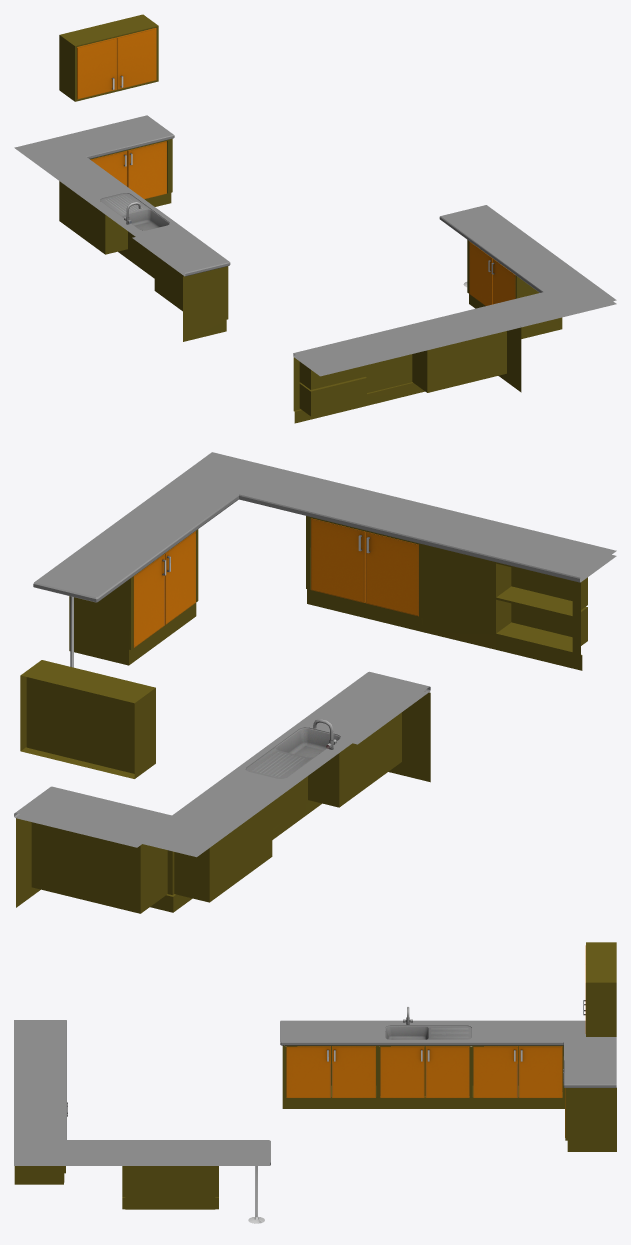
File: House_Jeff_Nelly_Kitchen.FBX
3 views of the same model, one above another, from view 1: azimuth 30°, elevation 25°; view 2: azimuth 150°, elevation 25°; view 3: azimuth 270°, elevation 25° (orthographic). The views are drawn at different scales.
Parts seen in each view (by area): view 1: House_JeffNelly_Kitchen Models; view 2: House_JeffNelly_Kitchen Models; view 3: House_JeffNelly_Kitchen Models.
Part boxes in pixels (box(x1,y1,x2,y2)): House_JeffNelly_Kitchen Models: box(14, 14, 616, 423); House_JeffNelly_Kitchen Models: box(14, 452, 616, 913); House_JeffNelly_Kitchen Models: box(14, 942, 616, 1223).
Bounding box in the file's own units: 400 × 220 × 716.
